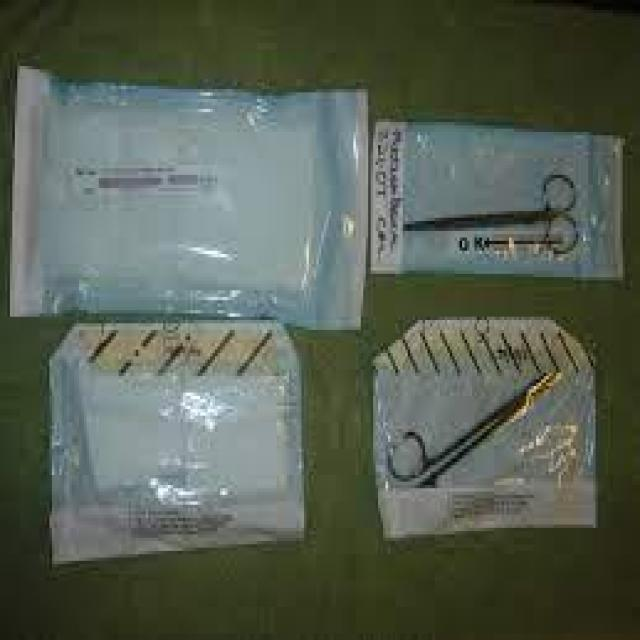B3: (368, 116, 613, 300), (366, 336, 590, 518)
